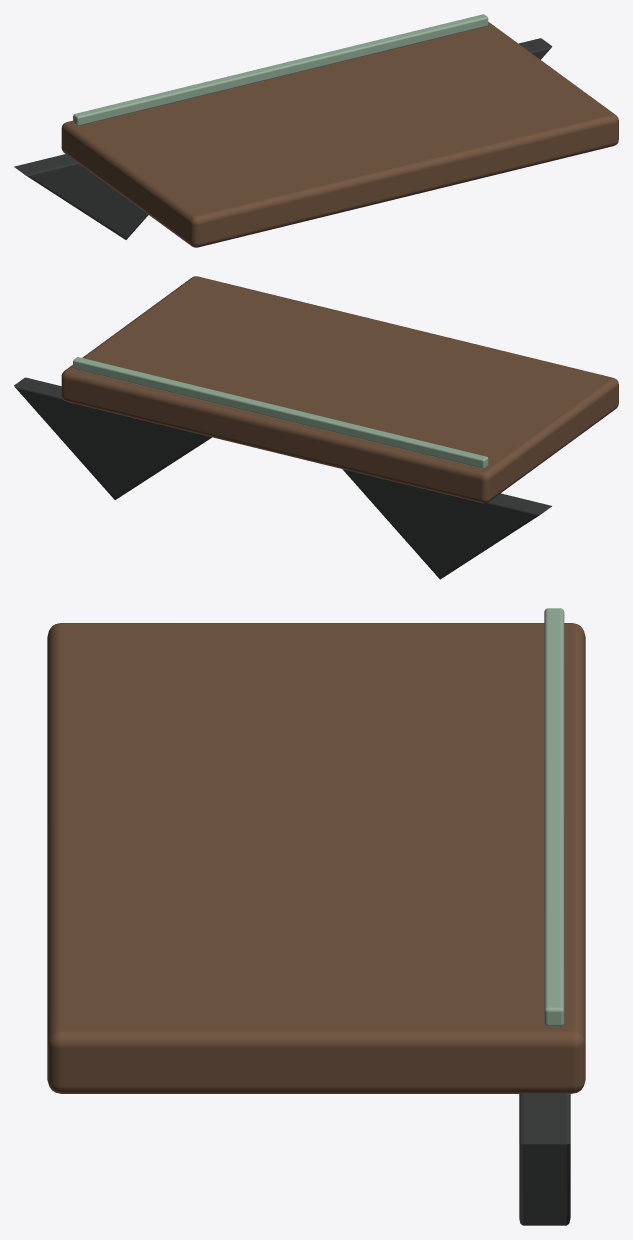
Rendered from abandoned-telephone-exchange-operator-writing-shelf-8f5b29f9__31984.glb.
3 views of the same model, one above another, from view 1: azimuth 30°, elevation 25°; view 2: azimuth 150°, elevation 25°; view 3: azimuth 270°, elevation 25° (orthographic). The views are drawn at different scales.
Parts seen in each view (by area): view 1: operator-writing-shelf; view 2: operator-writing-shelf; view 3: operator-writing-shelf.
Part boxes in pixels (bbox=[...]): operator-writing-shelf: bbox=[14, 14, 618, 247]; operator-writing-shelf: bbox=[14, 276, 618, 579]; operator-writing-shelf: bbox=[47, 608, 585, 1225].
Size of the model in its own units: 0.9733 by 0.2285 by 0.43.
